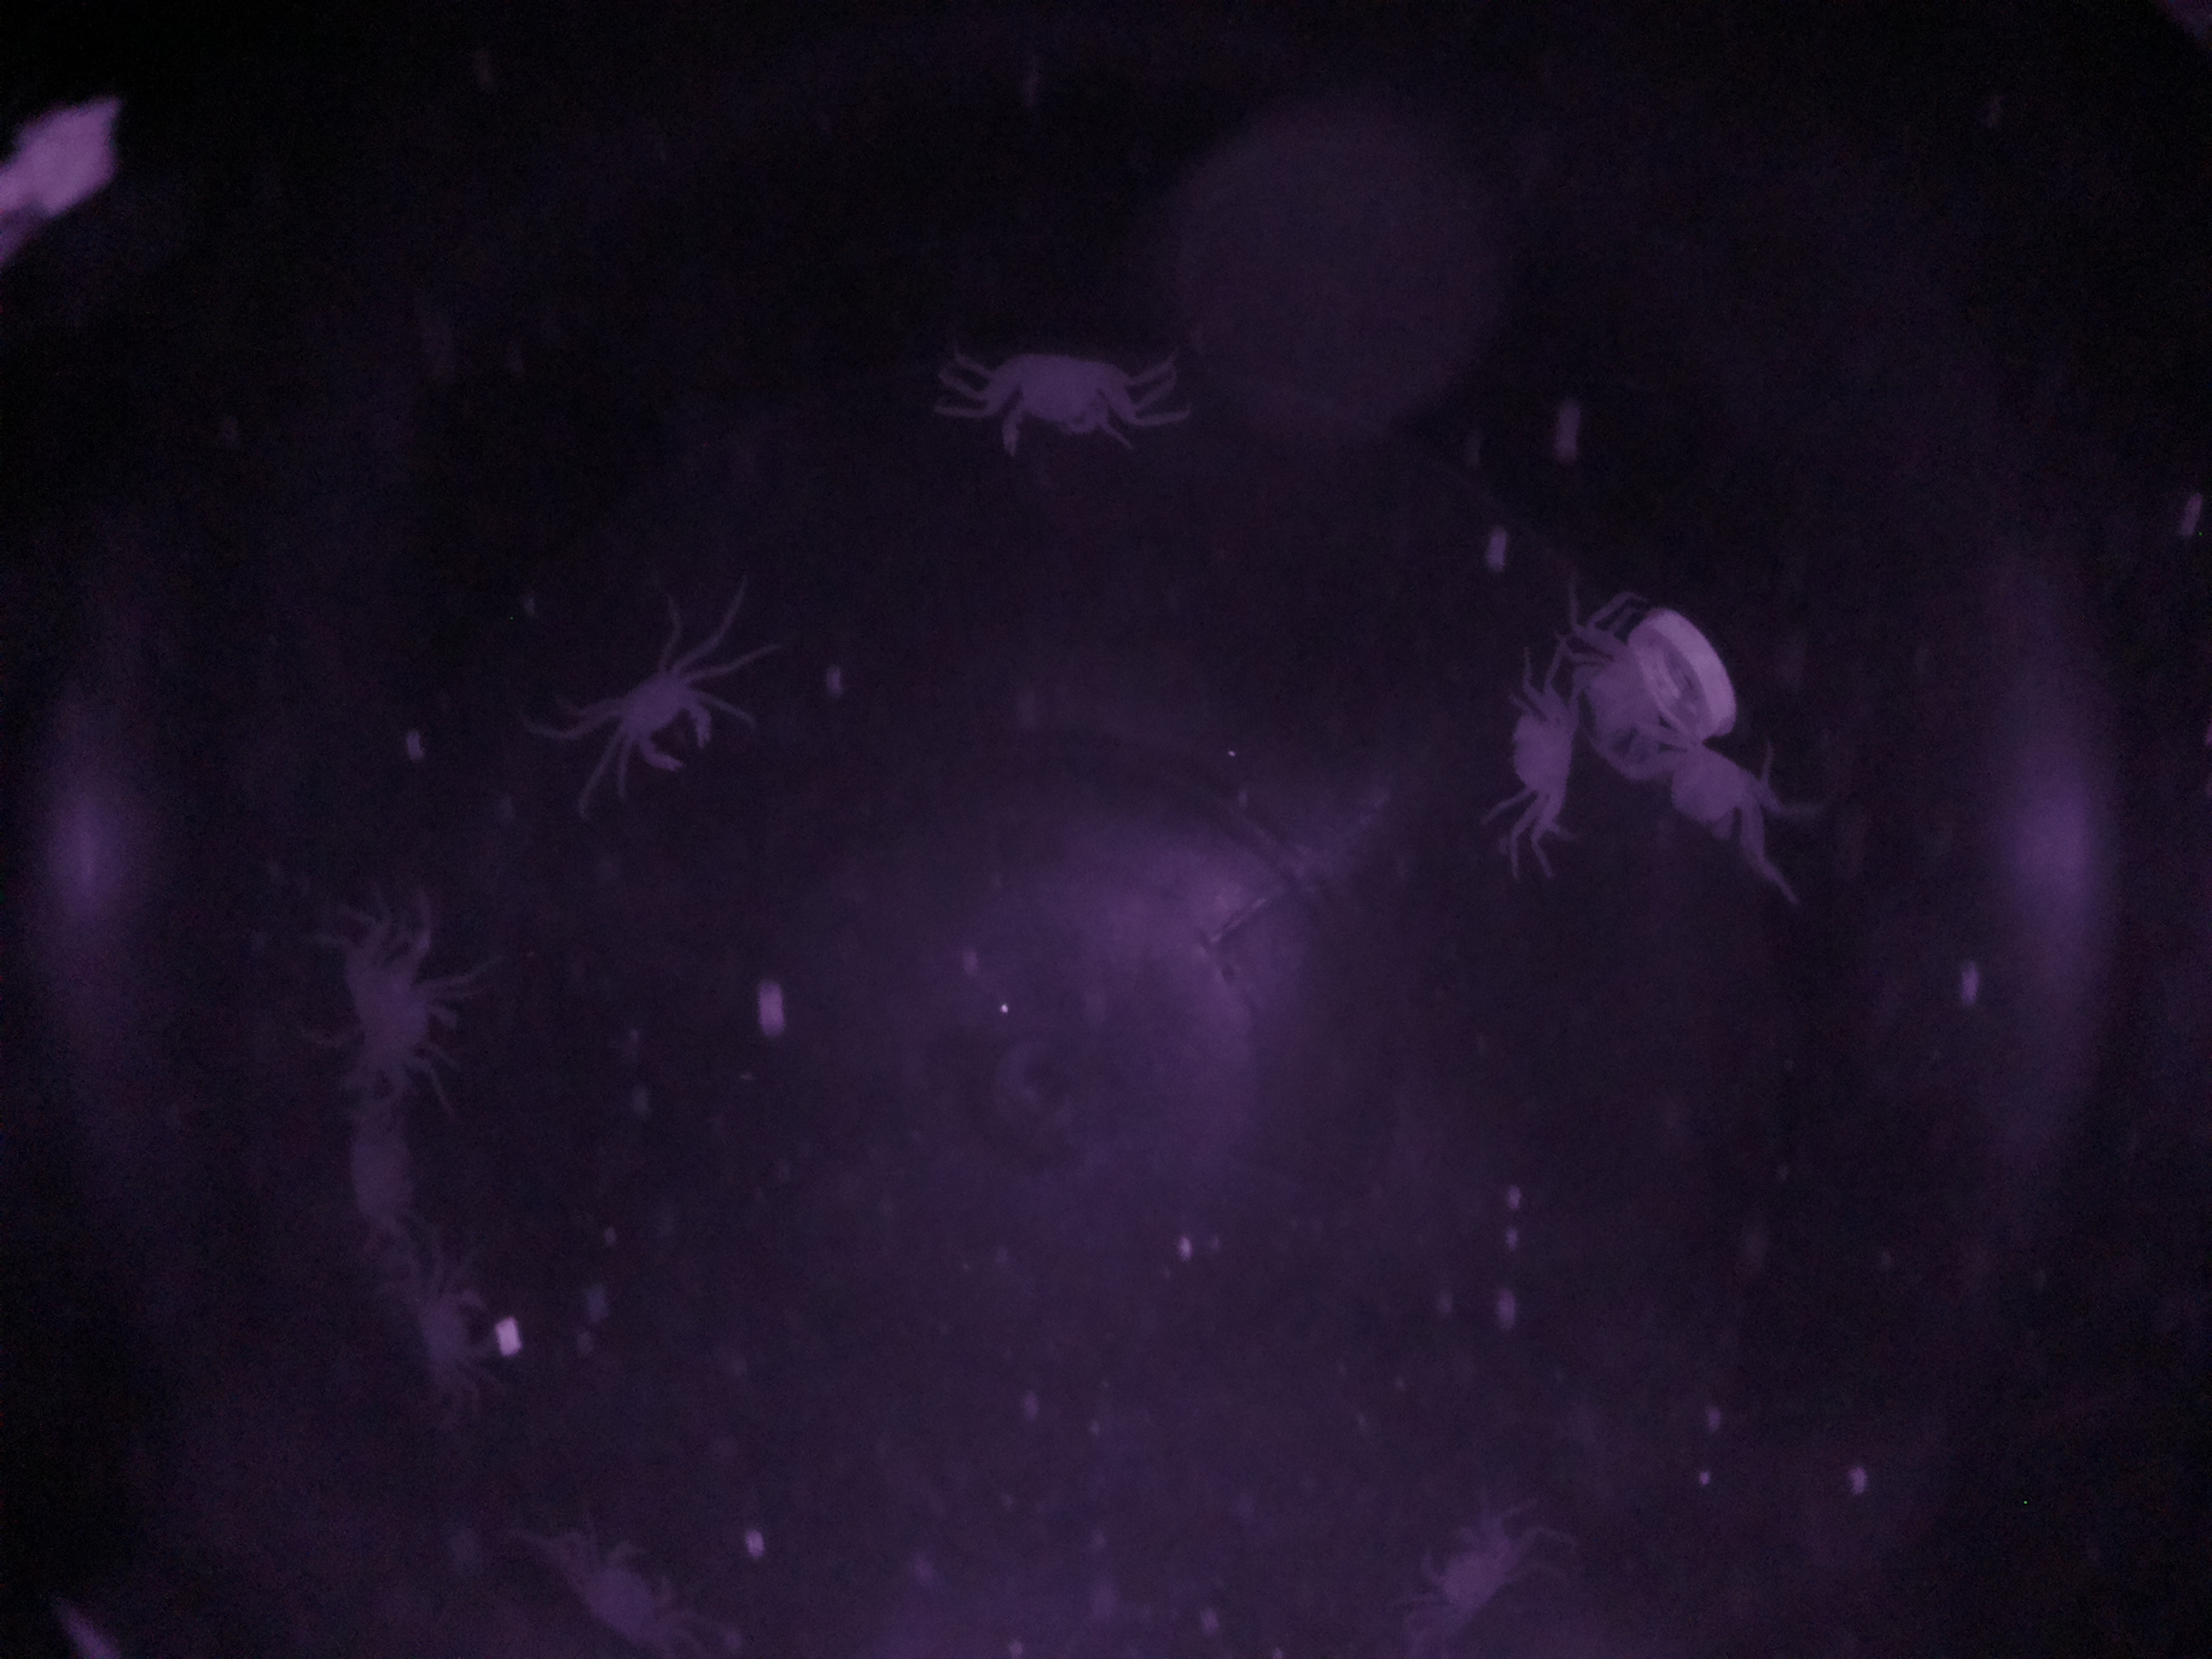Crab: (968, 305, 1157, 469), (577, 622, 733, 810), (1489, 648, 1613, 838)
